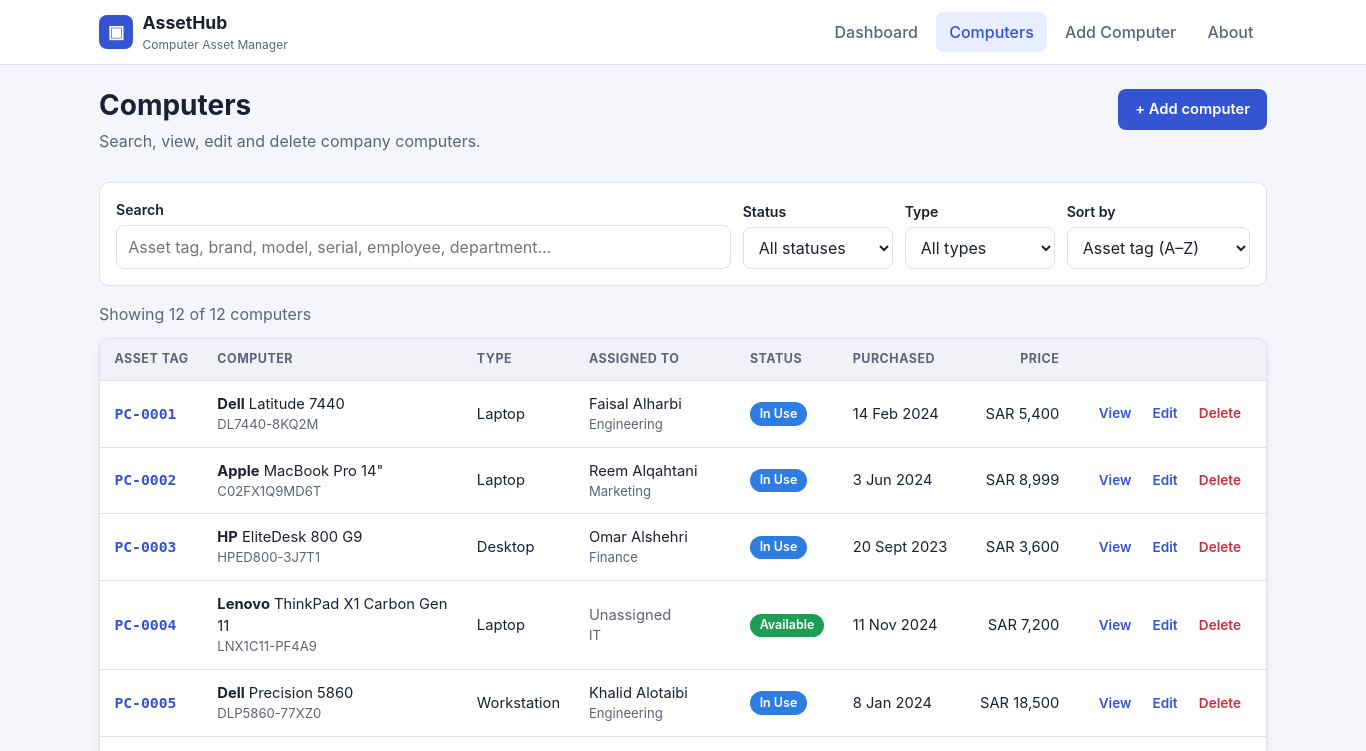
Scenario: display and search › filters the list as the user types
This screenshot has width=1366, height=751.
Type "lenovo" into the search field labelled "Search" at {"x": 423, "y": 247}, box x1=116 y1=225 x2=731 y2=269
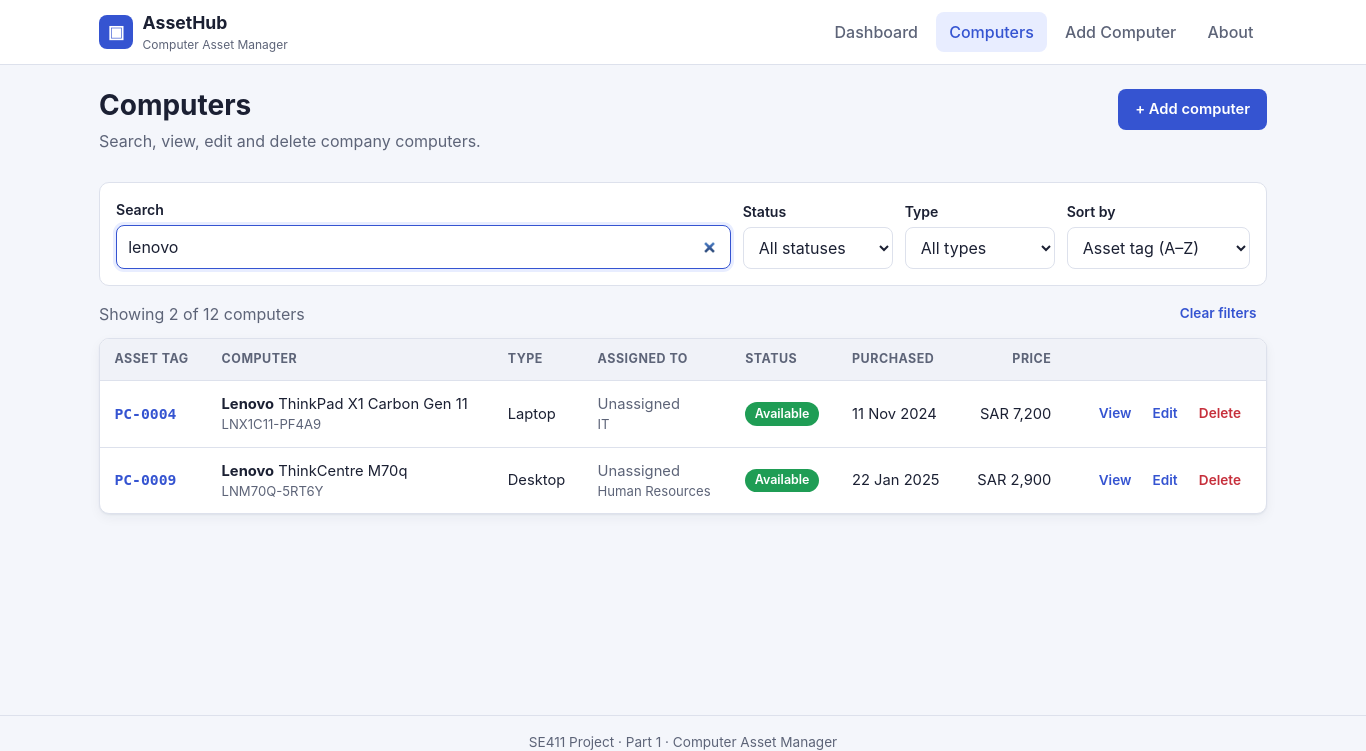
Expected: the link "PC-0004" is shown, x1=114 y1=405 x2=176 y2=422
Expected: the text "Showing 2 of 12 computers" is shown, x1=99 y1=302 x2=305 y2=326
Expected: the link "PC-0001" is gone
